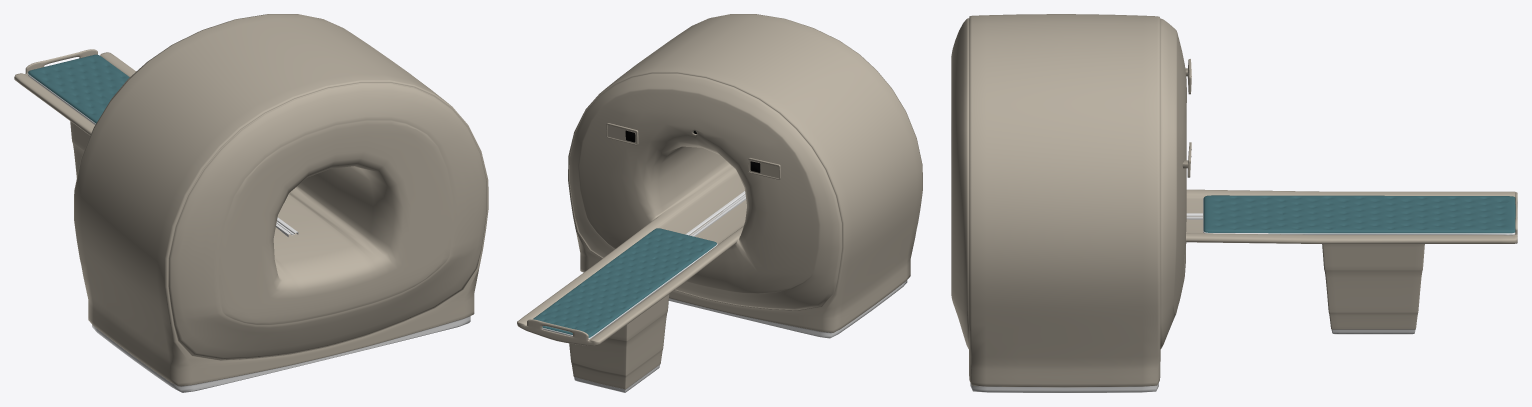
Rendered from MRIMachine.fbx.
3 renders of one model, left to right at view 1: azimuth 30°, elevation 25°; view 2: azimuth 150°, elevation 25°; view 3: azimuth 270°, elevation 25°, orthographic. The views are drawn at different scales.
Parts seen in each view (by area): view 1: MRIMachine; view 2: MRIMachine; view 3: MRIMachine.
Boxes of the visible parts, x1=… form: MRIMachine: x1=14, y1=14, x2=488, y2=392; MRIMachine: x1=517, y1=14, x2=922, y2=392; MRIMachine: x1=951, y1=14, x2=1517, y2=392.
Bounding box in the file's own units: 234 × 187 × 340.
